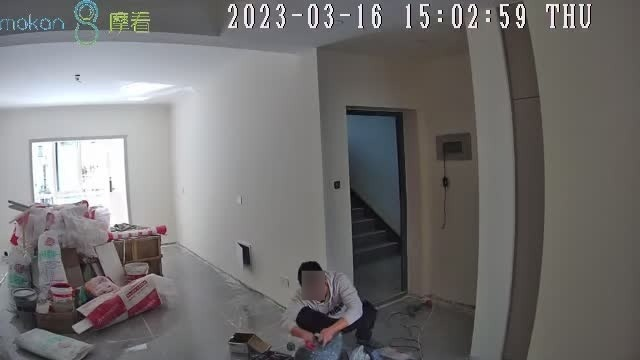people: (281, 261, 378, 352)
window: (34, 139, 128, 231)
